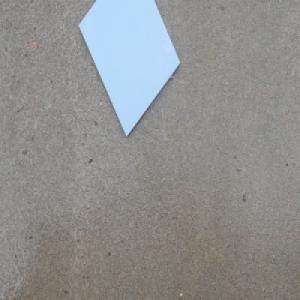PaintChip: (78, 0, 181, 140)
